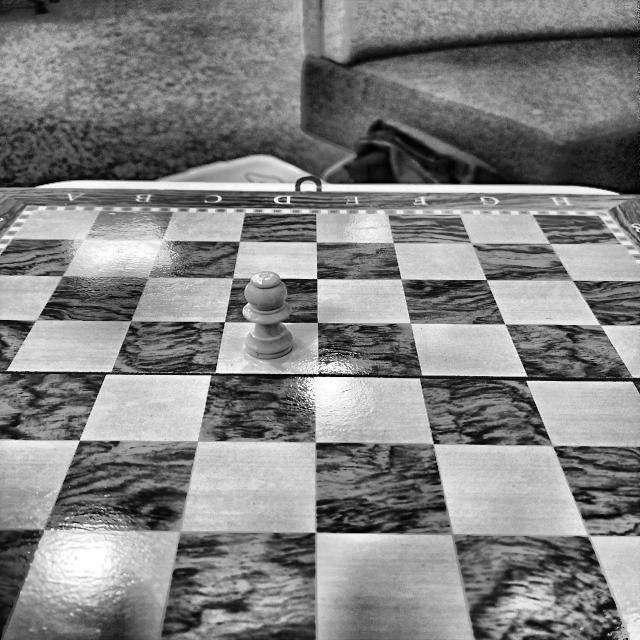white-bishop: (242, 271, 292, 359)
